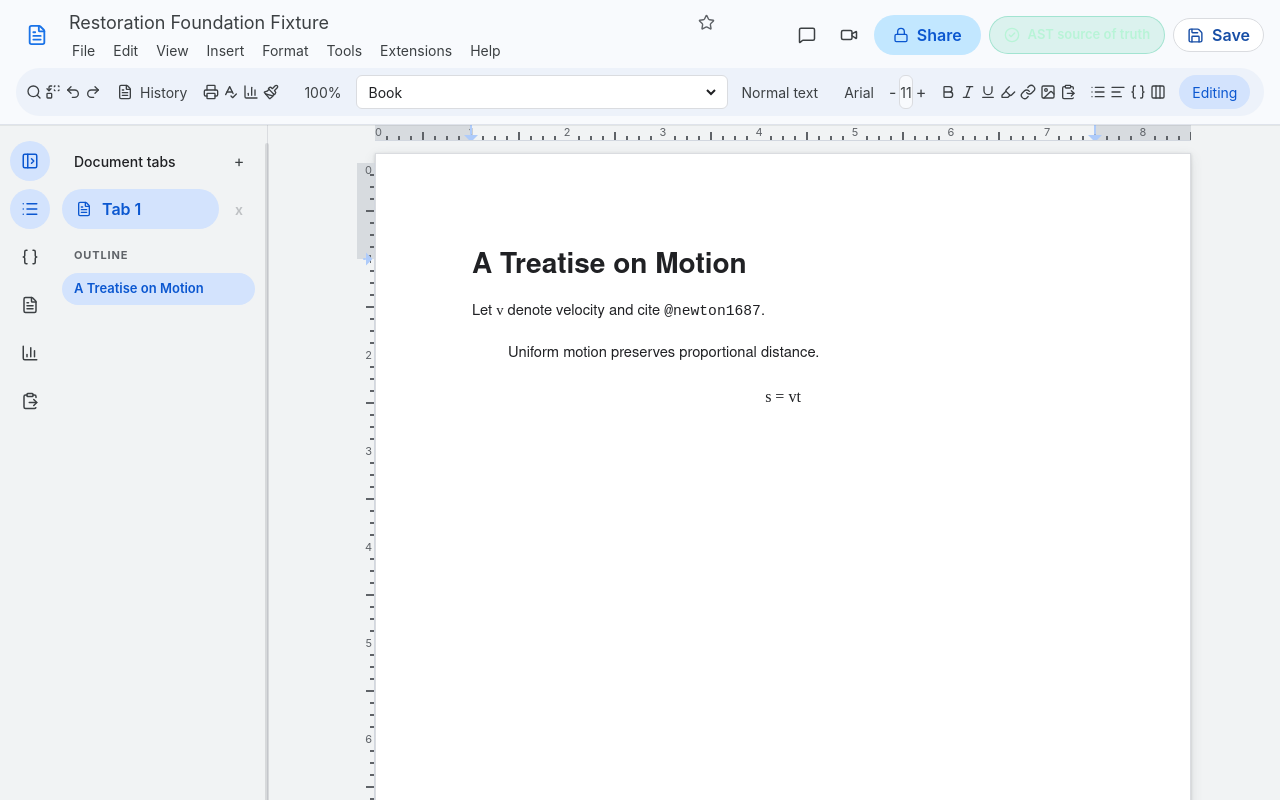
Test: EditorWorkspace › runs find and replace through canonical AST and updates the editing surface
Click the button named "Find and replace": (53, 92) [44,75,62,109]
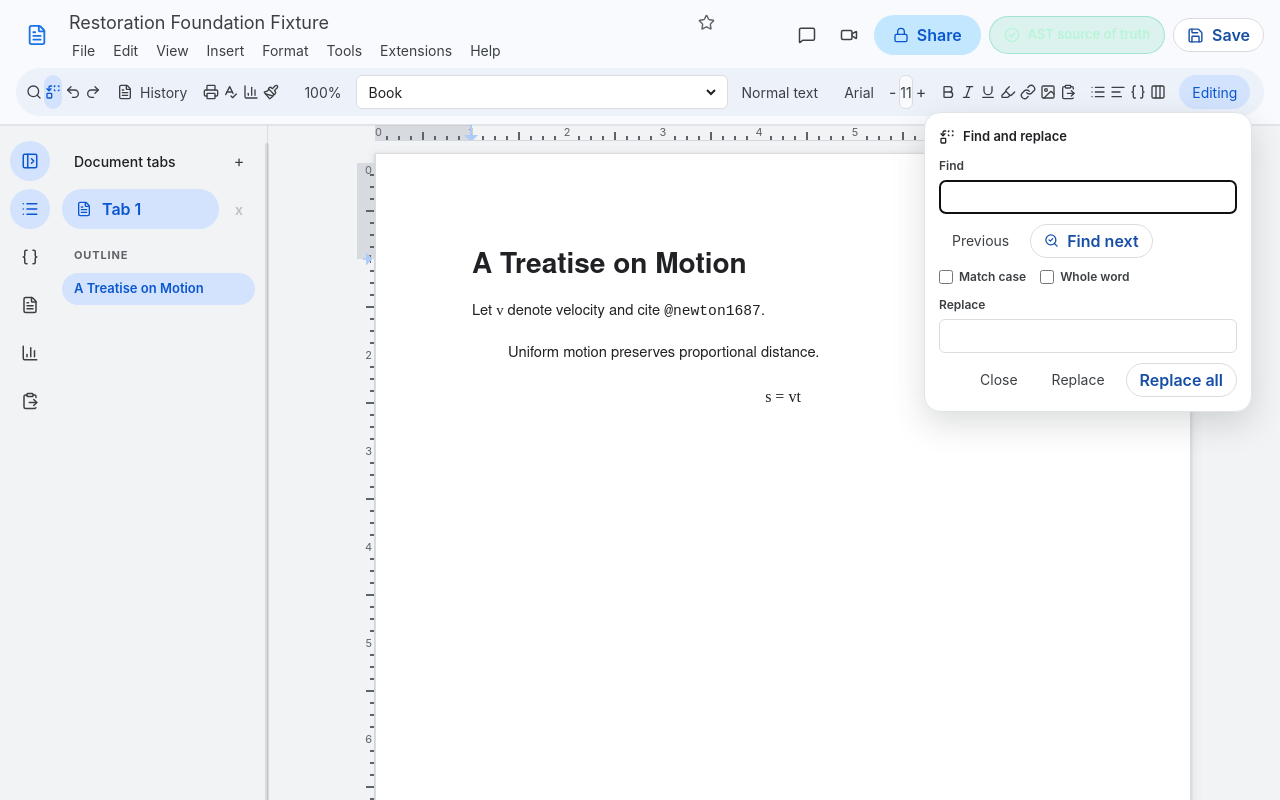
In the search field named "Find text": (1088, 196) [939,180,1237,214], type "velocity"
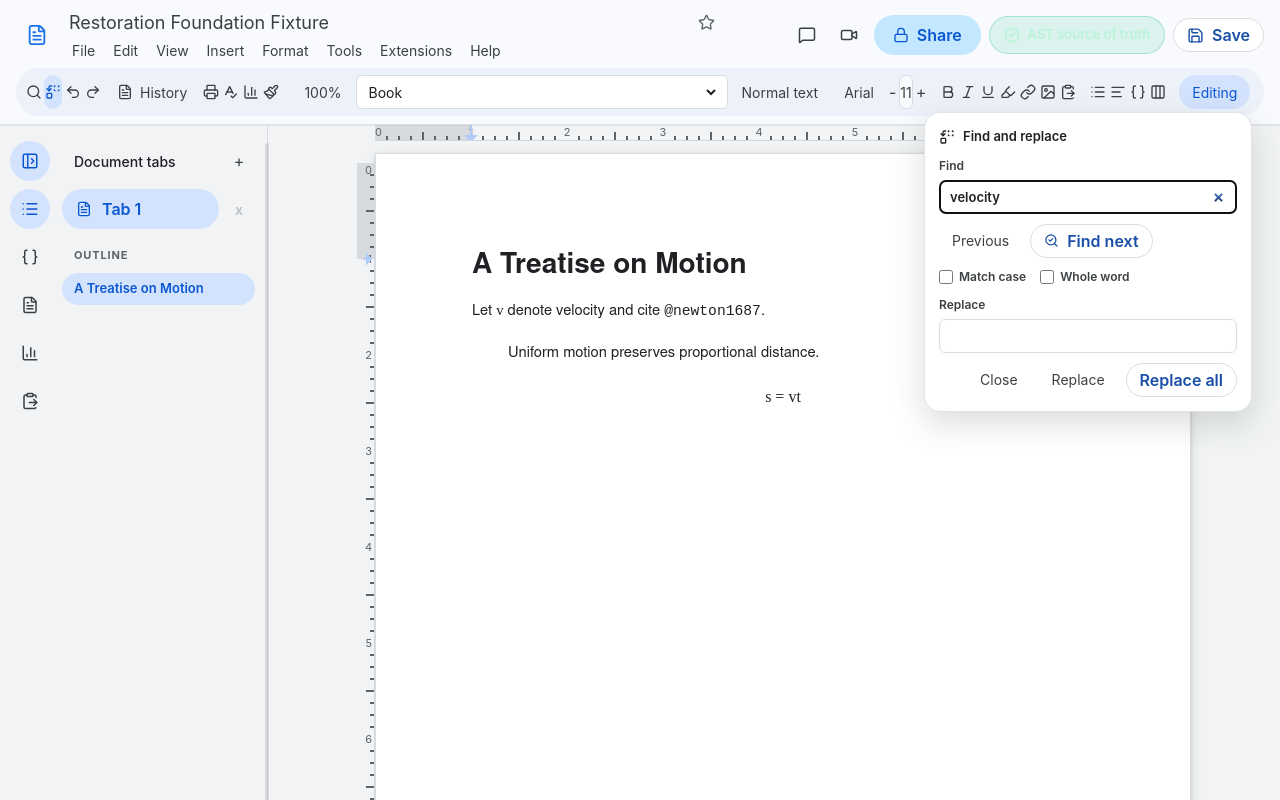
In the field named "Replace with": (1088, 336) [939,318,1237,352], type "speed"
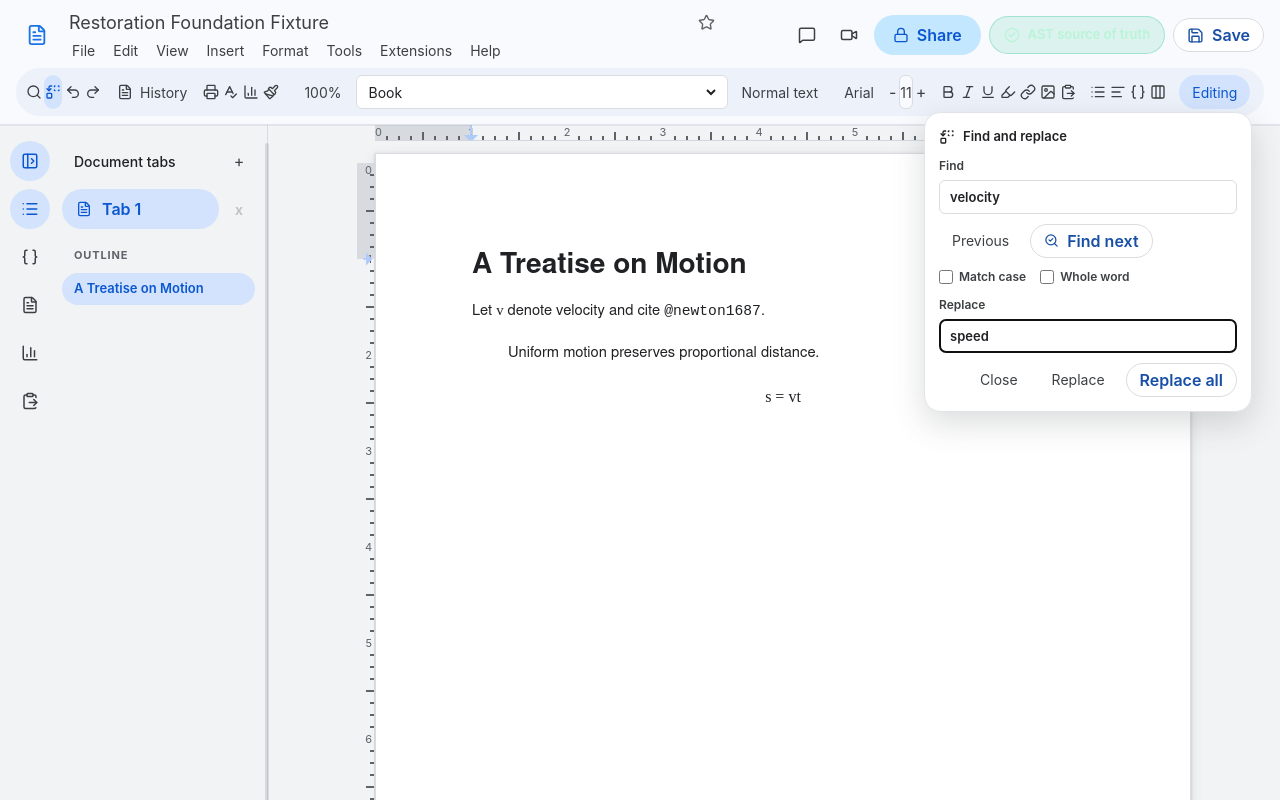
Click the button "Find next": (1091, 240) [1030,224,1152,258]
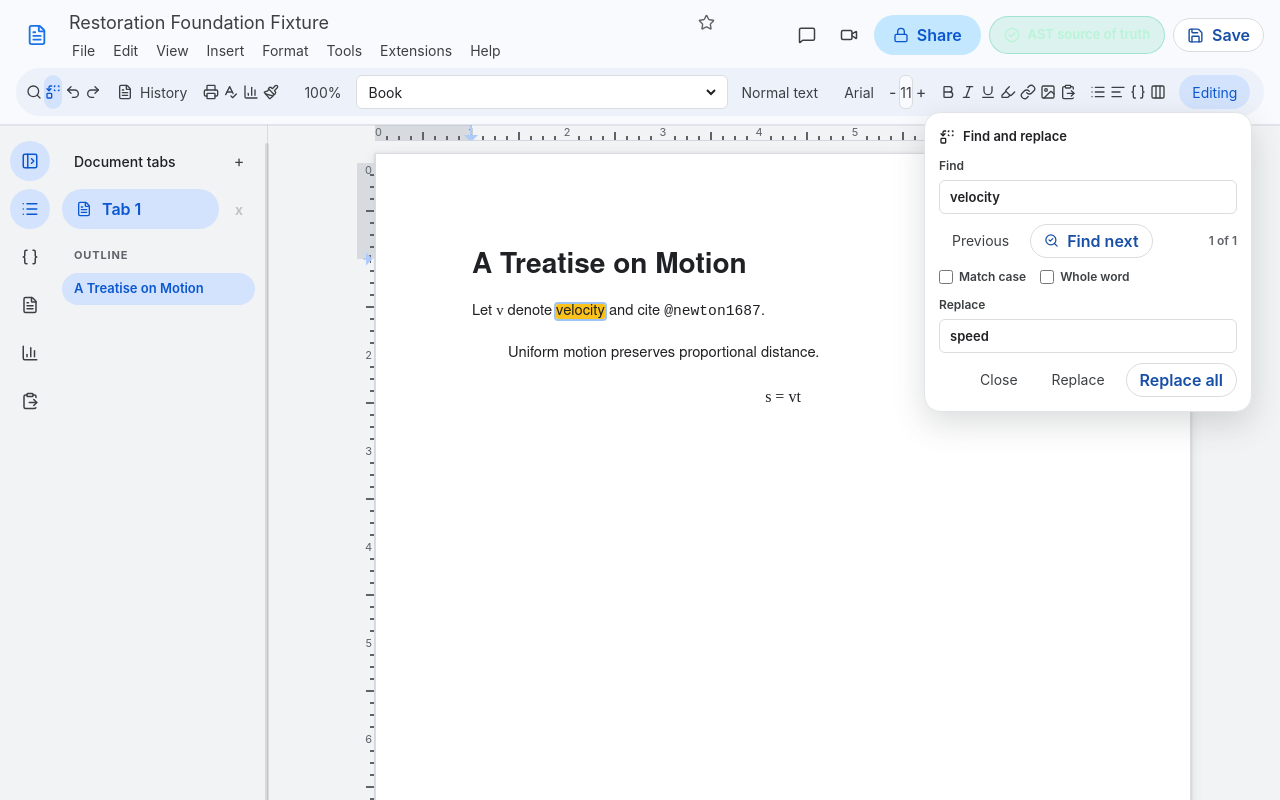
Click the button "Replace all": (1181, 380) [1126,362,1237,396]
(page scrolled)
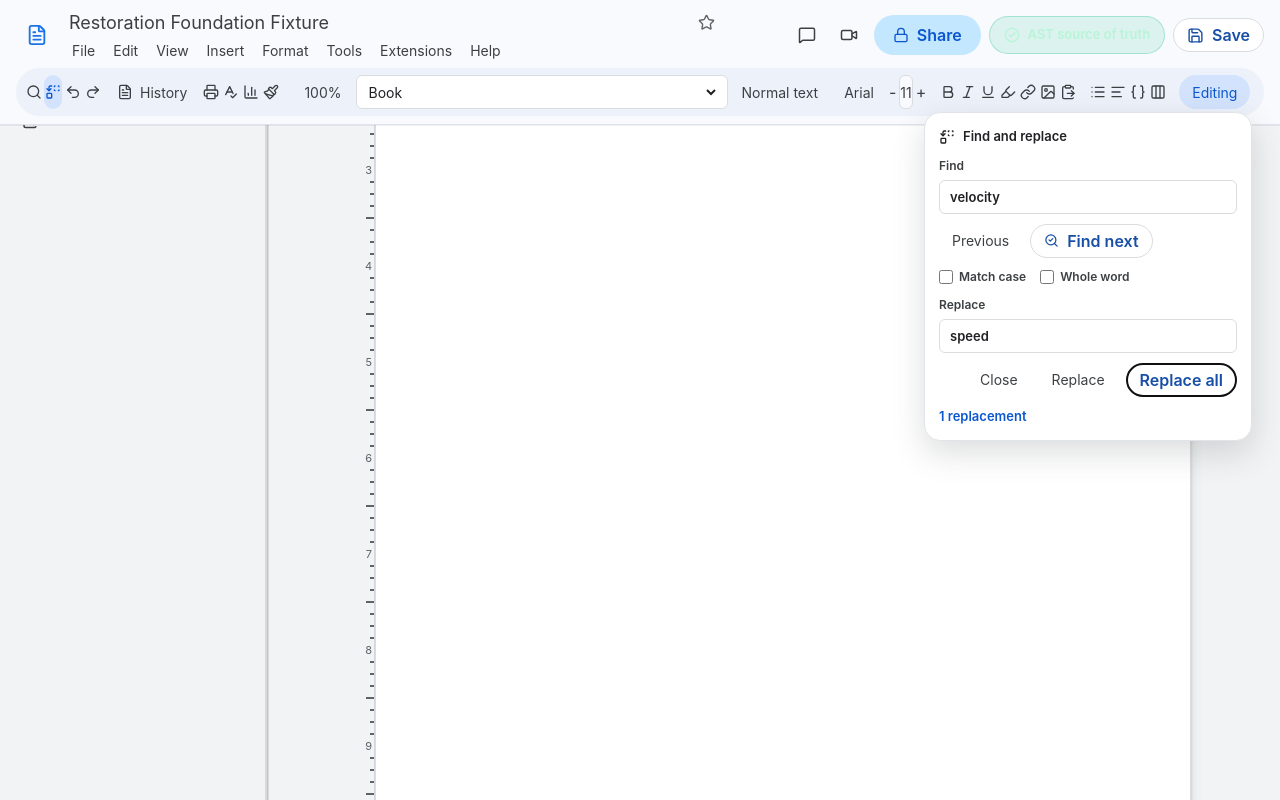
Check: the number of text boxes "s = vt" is 1, box [765,107,801,124]
Check: the text "1 replacement" is shown, box [939,408,1026,424]
